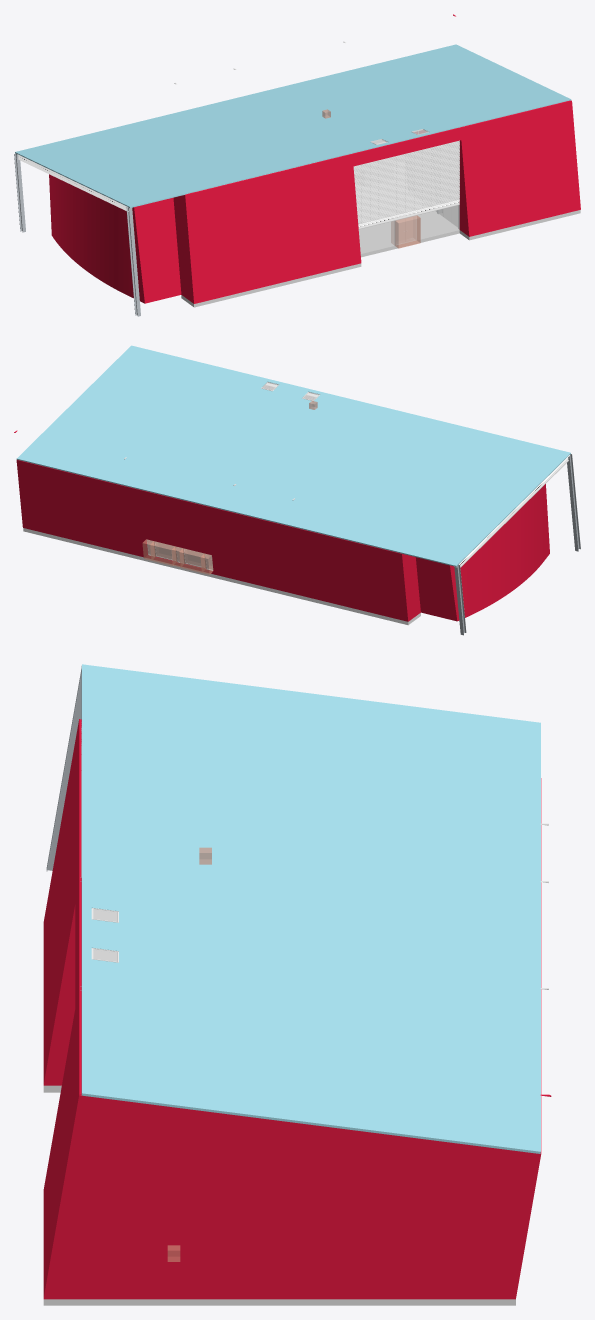
Rendered from ccg.glb.
3 renders of one model, top to bottom at view 1: azimuth 30°, elevation 25°; view 2: azimuth 150°, elevation 25°; view 3: azimuth 270°, elevation 25°, orthographic. The views are drawn at different scales.
Parts seen in each view (by area): view 1: IFC IfcSlab 17529, IFC IfcWall 951, IFC IfcWall 1605, IFC IfcWall 19841, IFC IfcSlab 20044, IFC IfcWall 2667, IFC IfcWall 1263, IFC IfcWall 21527, IFC IfcOpeningElement 14933, IFC IfcColumn 16883, IFC IfcBeam 17137, IFC IfcWall 18600 (+13 smaller); view 2: IFC IfcSlab 17529, IFC IfcWall 207, IFC IfcWall 19818, IFC IfcSlab 20044, IFC IfcWall 21489, IFC IfcBeam 17137, IFC IfcColumn 16883, IFC IfcOpeningElement 25207, IFC IfcWall 18600, IFC IfcOpeningElement 25279, IFC IfcColumn 16978, IFC IfcWall 18738; view 3: IFC IfcSlab 17529, IFC IfcWall 2419, IFC IfcWall 951, IFC IfcWall 1605, IFC IfcSlab 20044, IFC IfcWall 1728, IFC IfcColumn 16883.
Boxes of the visible parts, x1,y1,x2,y2 form: IFC IfcSlab 17529: (15, 44, 571, 207); IFC IfcWall 951: (185, 154, 361, 303); IFC IfcWall 1605: (460, 100, 580, 236); IFC IfcWall 19841: (134, 198, 181, 303); IFC IfcSlab 20044: (181, 210, 580, 307); IFC IfcWall 2667: (358, 205, 459, 253); IFC IfcWall 1263: (352, 127, 462, 166); IFC IfcWall 21527: (173, 195, 193, 303); IFC IfcOpeningElement 14933: (391, 215, 420, 248); IFC IfcColumn 16883: (126, 207, 140, 316); IFC IfcBeam 17137: (17, 154, 128, 211); IFC IfcWall 18600: (128, 207, 144, 303); IFC IfcSlab 17529: (16, 345, 570, 566); IFC IfcWall 207: (16, 460, 408, 621); IFC IfcWall 19818: (415, 557, 457, 621); IFC IfcSlab 20044: (23, 528, 420, 625); IFC IfcWall 21489: (402, 554, 420, 621); IFC IfcBeam 17137: (459, 455, 569, 567); IFC IfcColumn 16883: (567, 454, 580, 551); IFC IfcOpeningElement 25207: (150, 541, 176, 565); IFC IfcWall 18600: (542, 484, 549, 562); IFC IfcOpeningElement 25279: (179, 548, 205, 572); IFC IfcColumn 16978: (454, 565, 466, 635); IFC IfcWall 18738: (482, 542, 487, 609); IFC IfcSlab 17529: (81, 664, 540, 1153); IFC IfcWall 2419: (43, 1094, 551, 1299); IFC IfcWall 951: (43, 719, 81, 1083); IFC IfcWall 1605: (43, 986, 81, 1296); IFC IfcSlab 20044: (43, 1085, 515, 1305); IFC IfcWall 1728: (43, 881, 80, 1085); IFC IfcColumn 16883: (46, 669, 81, 871).
Bounding box in the file's own units: 41.22 × 12.4 × 20.06.
